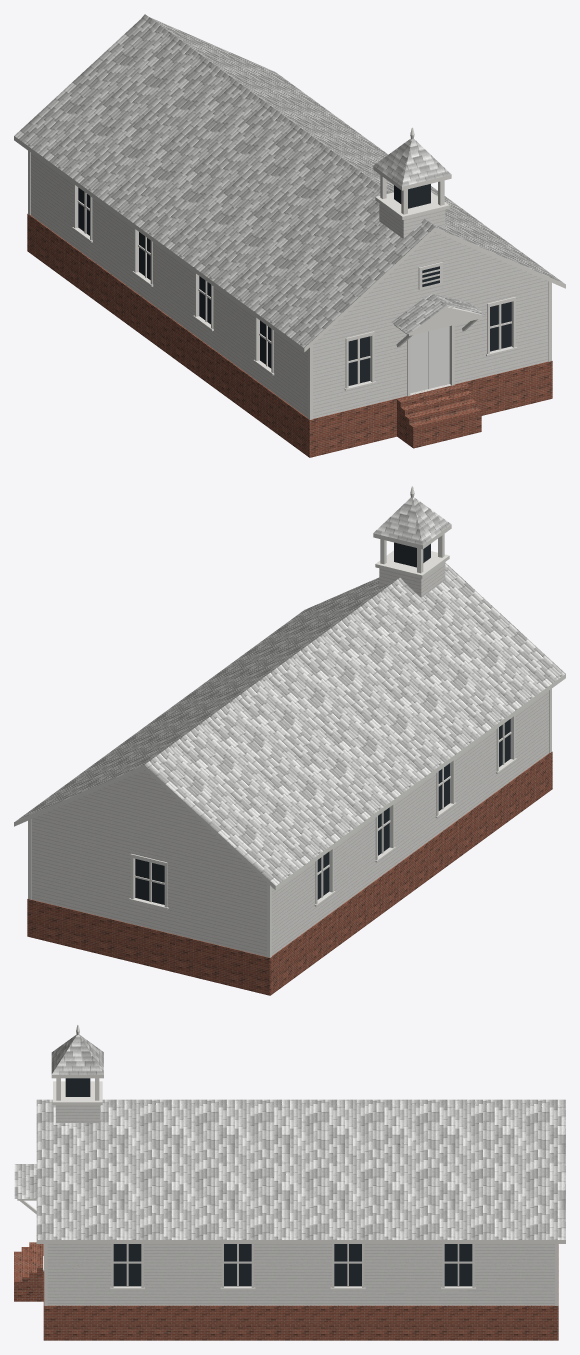
Rendered from church-frame.glb.
3 views of the same model, one above another, from view 1: azimuth 30°, elevation 25°; view 2: azimuth 150°, elevation 25°; view 3: azimuth 270°, elevation 25° (orthographic). The views are drawn at different scales.
Visible parts, largest first — view 1: church-frame; view 2: church-frame; view 3: church-frame.
Part boxes in pixels (left/top/right/bottom): church-frame: left=14, top=14, right=565, bottom=457; church-frame: left=14, top=486, right=565, bottom=995; church-frame: left=14, top=1024, right=565, bottom=1340.
Size of the model in its own units: 10 by 10.47 by 20.02.
6 materials, 3 textured.
